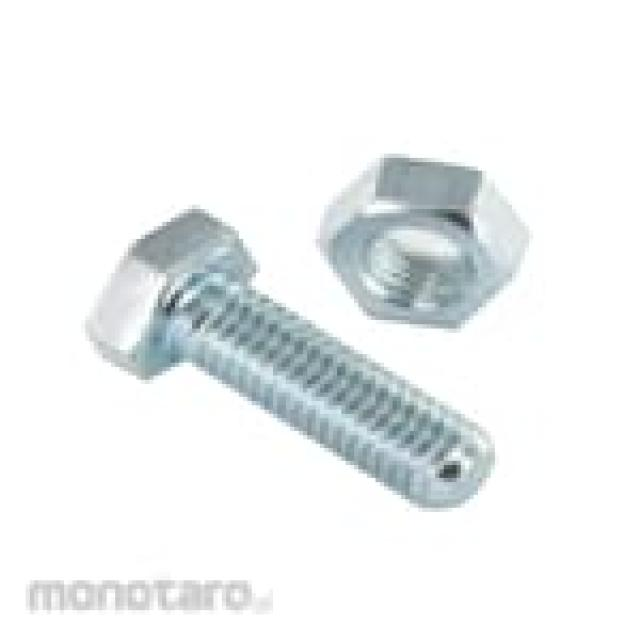Logam: (83, 127, 543, 522)
